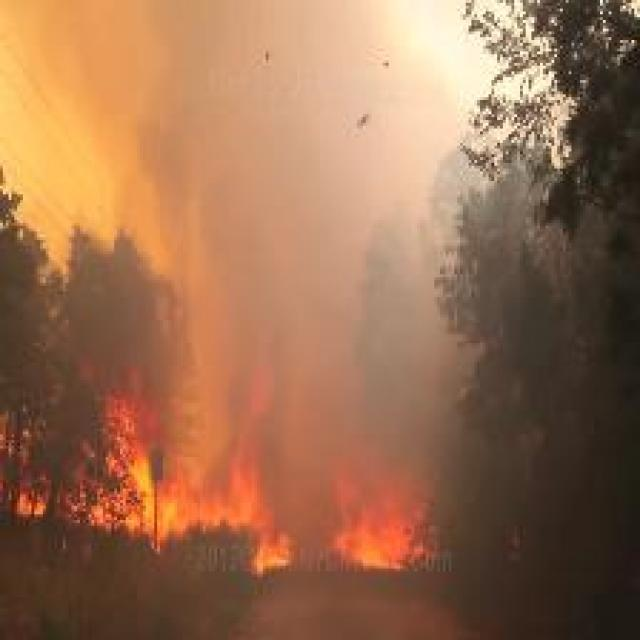Fire: (0, 324, 297, 573), (334, 448, 440, 574)
